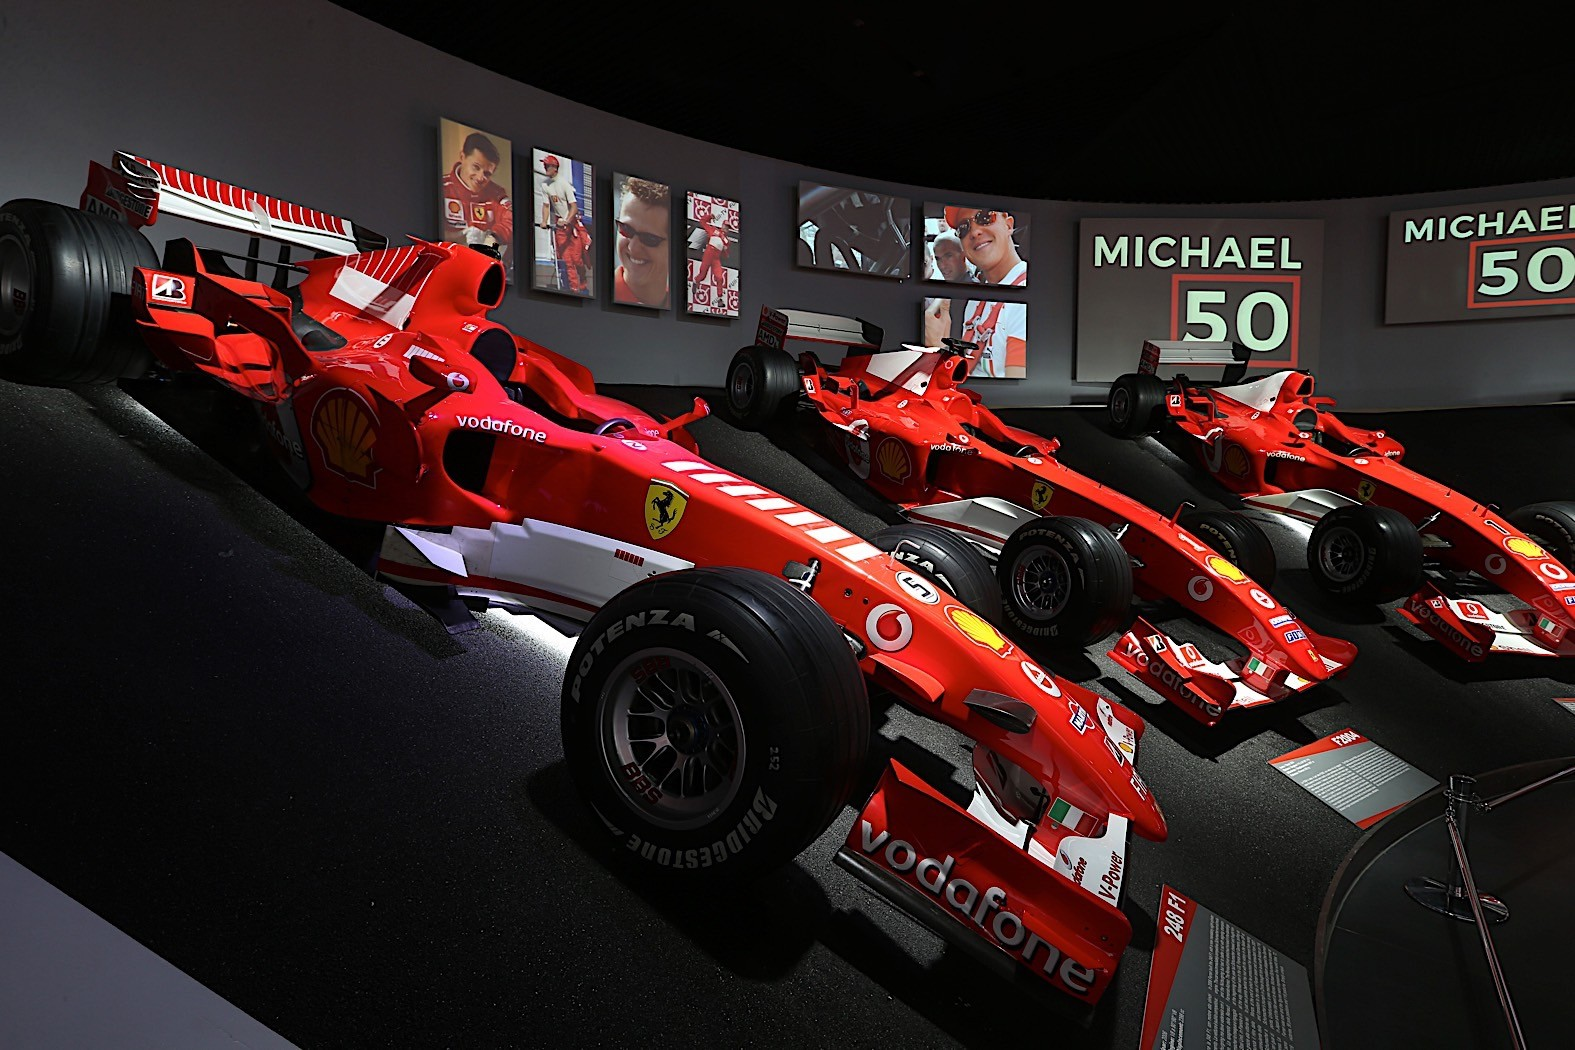f1_car: (4, 121, 1182, 1030), (701, 271, 1383, 755), (1096, 326, 1575, 679)
